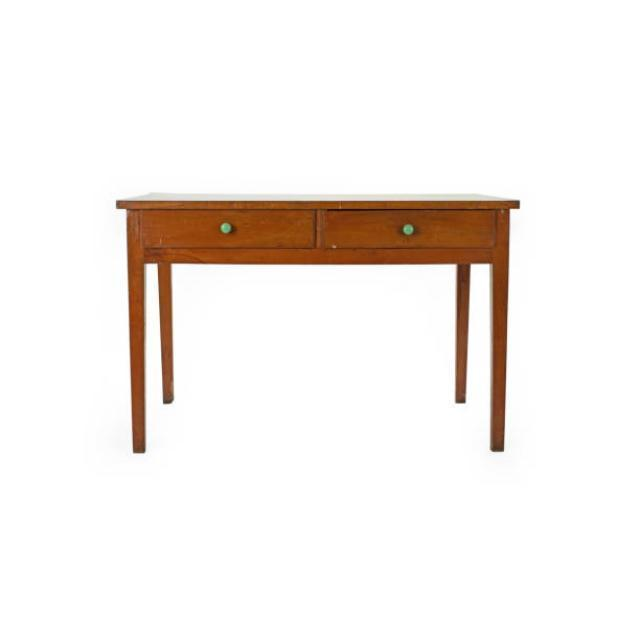table: (115, 191, 520, 455)
